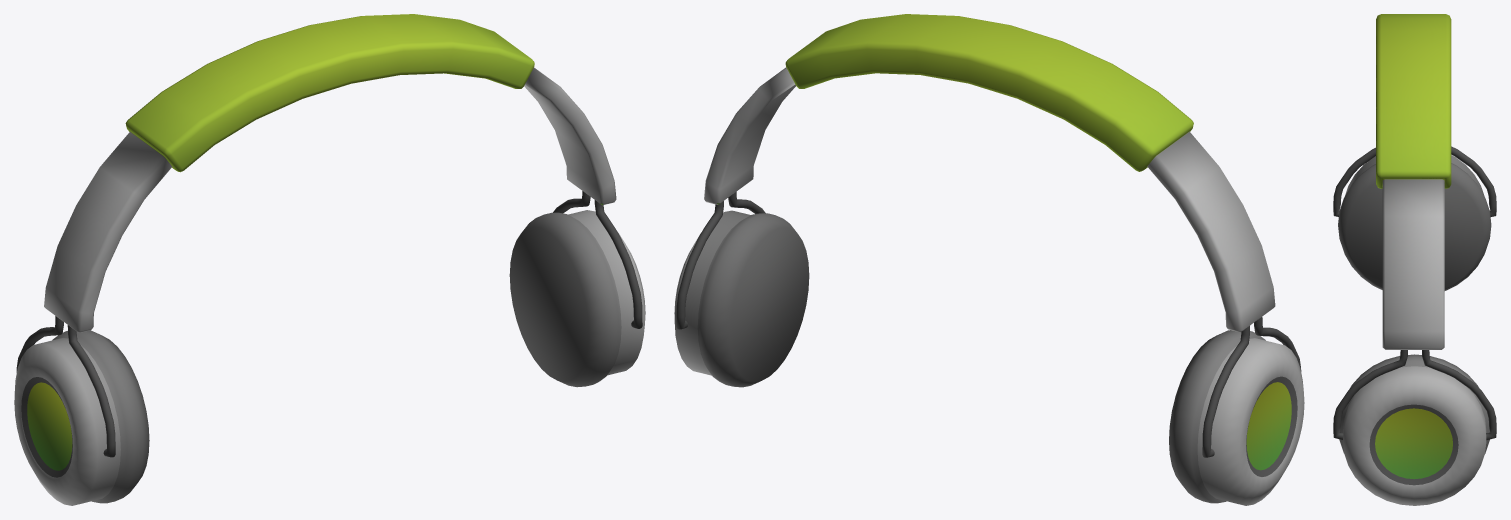
The model's file is earphone4.fbx.
3 views of the same model, side by side, from view 1: azimuth 30°, elevation 25°; view 2: azimuth 150°, elevation 25°; view 3: azimuth 270°, elevation 25° (orthographic). The views are drawn at different scales.
Visible parts, largest first — view 1: Plane.004; view 2: Plane.004; view 3: Plane.004.
Boxes of the visible parts, x1,y1,x2,y2 form: Plane.004: (14, 14, 645, 505); Plane.004: (674, 14, 1304, 505); Plane.004: (1333, 14, 1496, 505).
Size of the model in its own units: 88.17 by 304 by 206.
